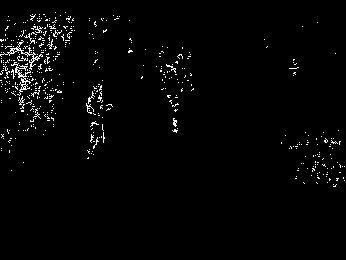person: (85, 83, 114, 160)
